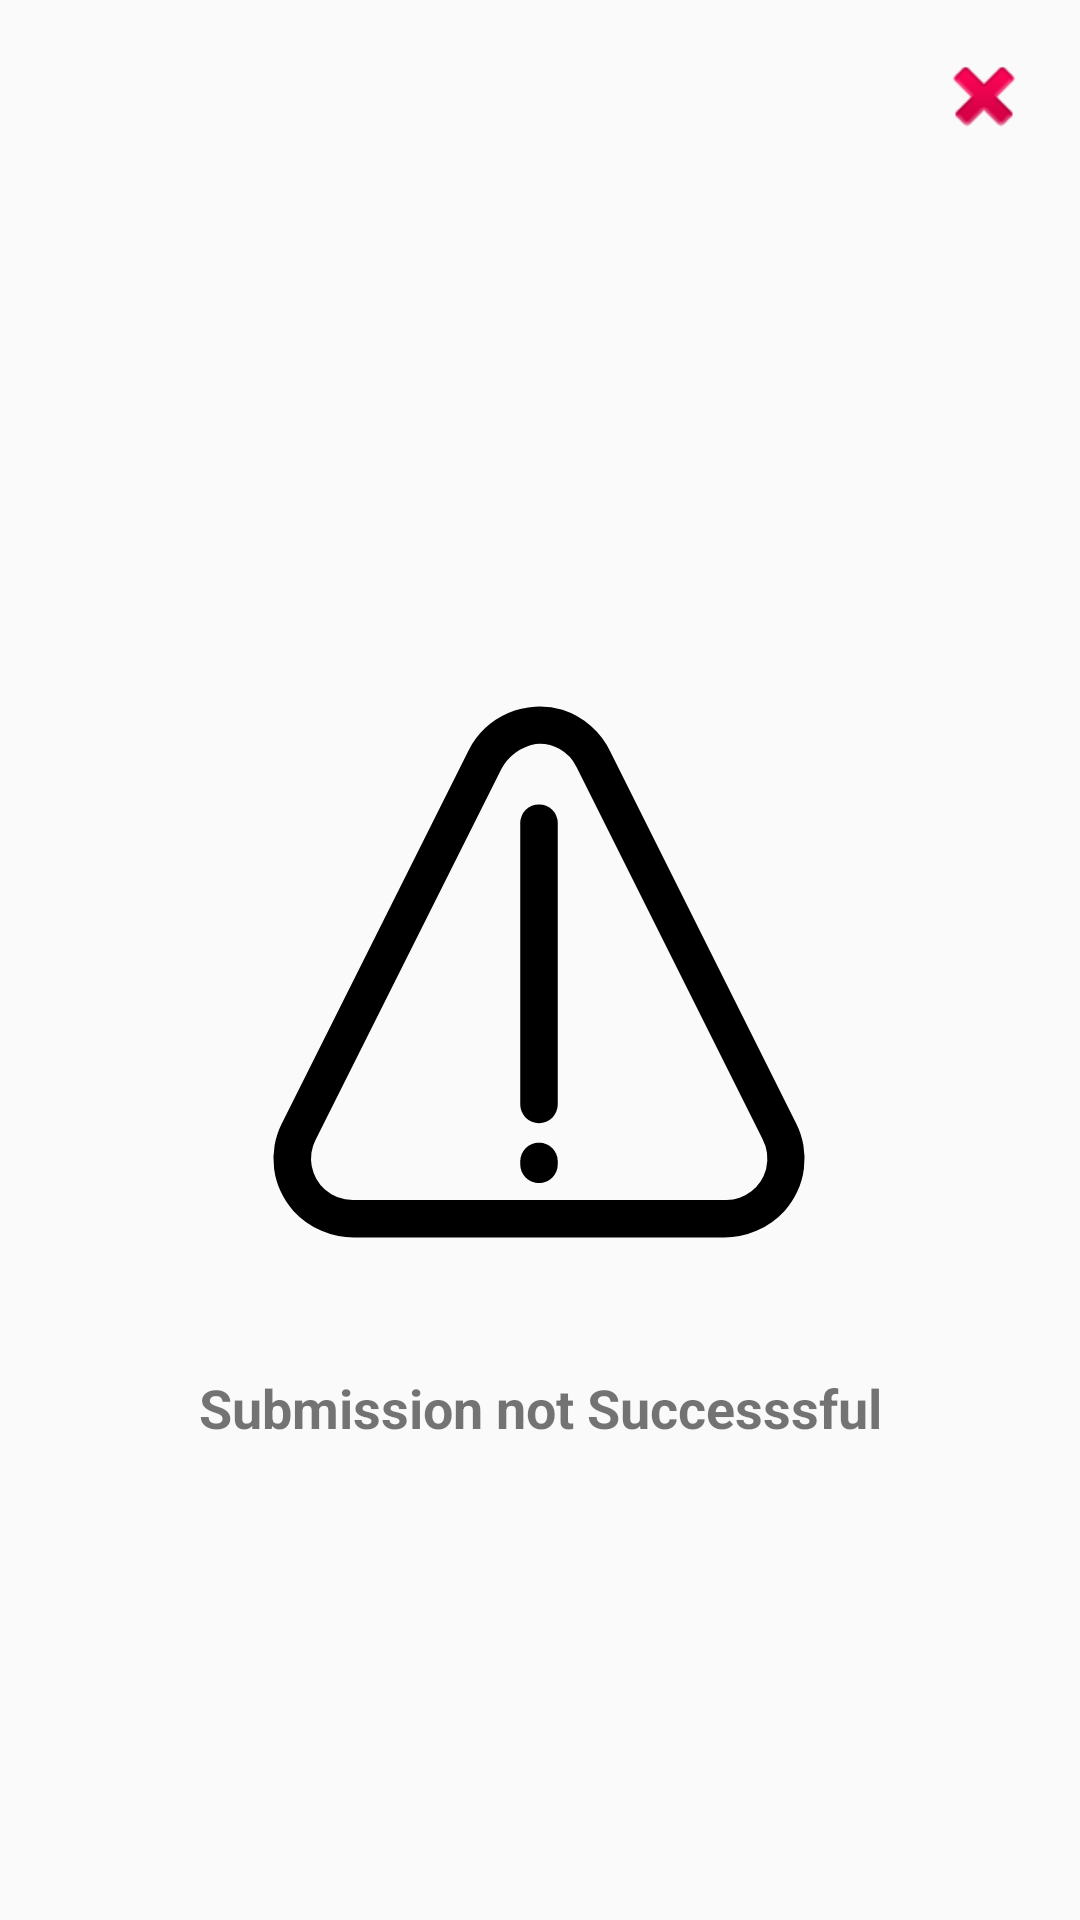

Named icons in this screenshot (1080*1920) and their bounding boxes, (x1, y1, x2, y2):
delete: (953, 67, 1015, 126)
